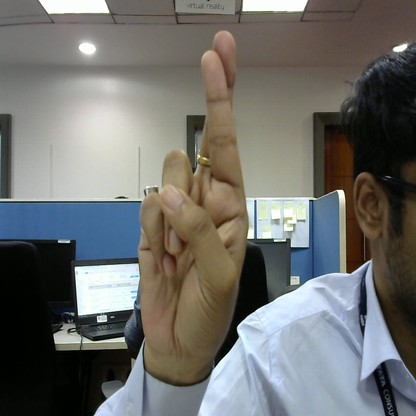r: (130, 21, 257, 370)
